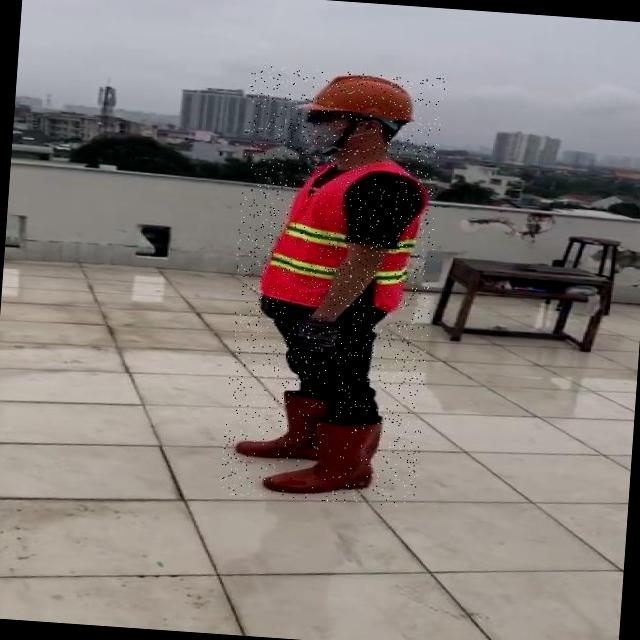boots: (256, 412, 380, 502), (225, 376, 330, 461)
gloves: (282, 308, 348, 363)
helmet: (304, 69, 420, 121)
vest: (258, 152, 434, 311)
